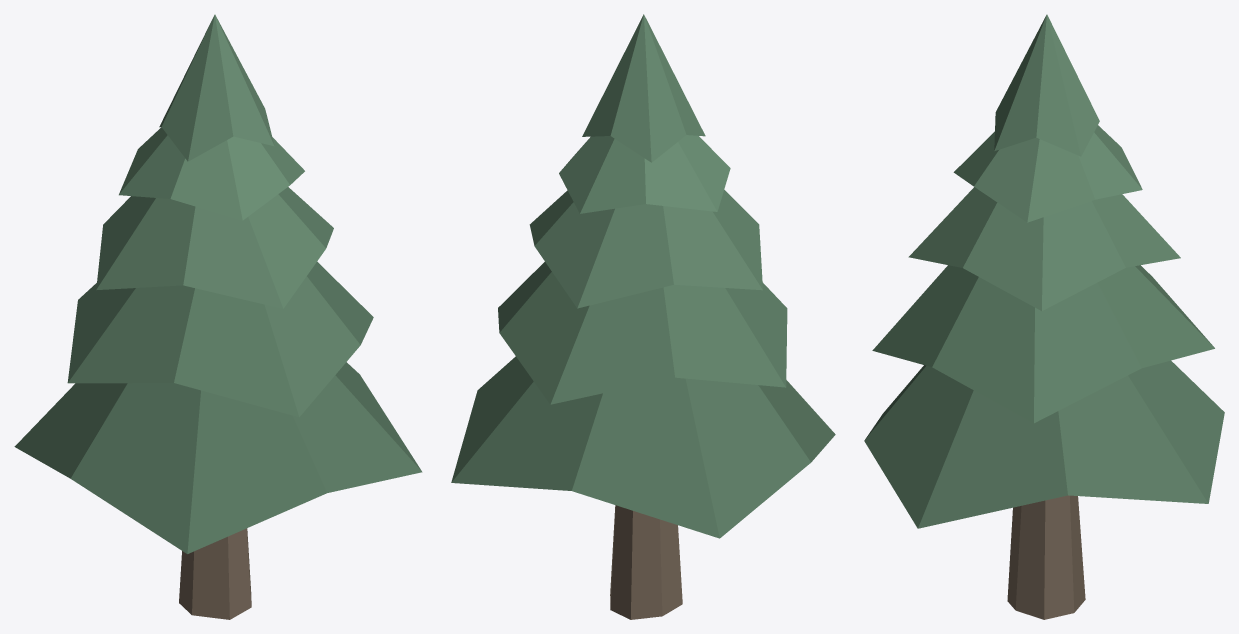
The model's file is pine_2.glb.
The picture shows the model from 3 angles, left to right: view 1: azimuth 30°, elevation 25°; view 2: azimuth 150°, elevation 25°; view 3: azimuth 270°, elevation 25°; orthographic projection.
Visible parts, largest first — view 1: pine_2.001; view 2: pine_2.001; view 3: pine_2.001.
Boxes of the visible parts, x1,y1,x2,y2 form: pine_2.001: (14, 14, 422, 619); pine_2.001: (451, 14, 835, 619); pine_2.001: (864, 14, 1224, 619).
Bounding box in the file's own units: 7.77 × 14.08 × 7.81.
